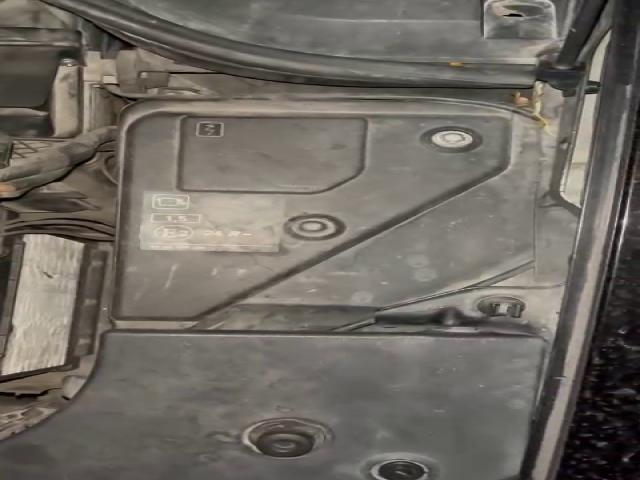accumulator: (0, 206, 95, 382)
fuse_box: (103, 97, 535, 335)
